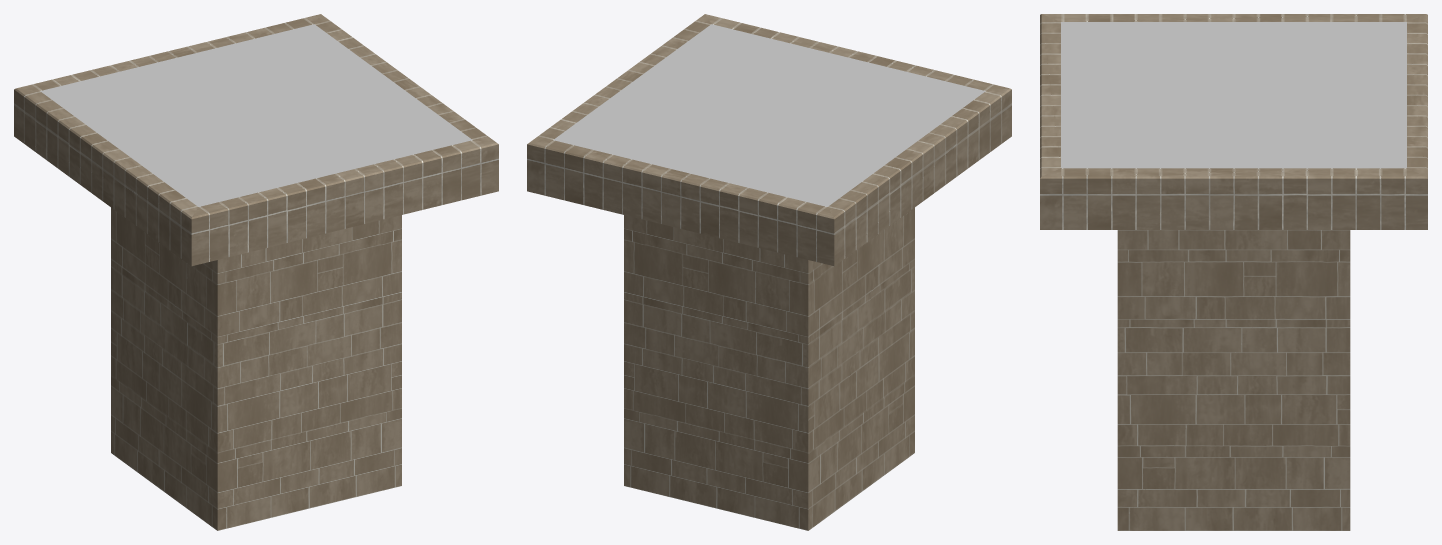
The model's file is VerticalPlatform.fbx.
3 renders of one model, left to right at view 1: azimuth 30°, elevation 25°; view 2: azimuth 150°, elevation 25°; view 3: azimuth 270°, elevation 25°, orthographic. The views are drawn at different scales.
Parts seen in each view (by area): view 1: MovingPlatform, VerticalPlatform; view 2: MovingPlatform, VerticalPlatform; view 3: VerticalPlatform, MovingPlatform.
Boxes of the visible parts, bbox=[...] form: MovingPlatform: bbox=[111, 207, 401, 530]; VerticalPlatform: bbox=[14, 14, 498, 266]; MovingPlatform: bbox=[624, 207, 914, 530]; VerticalPlatform: bbox=[527, 14, 1011, 266]; VerticalPlatform: bbox=[1040, 14, 1427, 229]; MovingPlatform: bbox=[1117, 230, 1350, 530].
Size of the model in its own units: 500 by 550 by 500.
